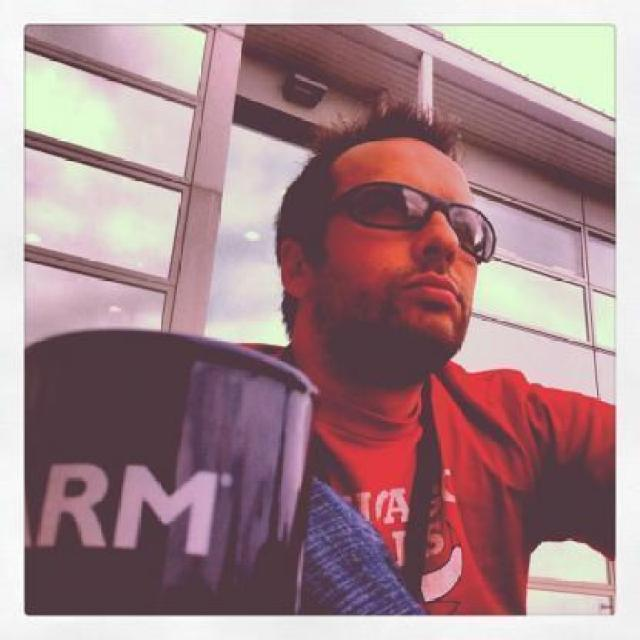face_nomask: (347, 179, 484, 318)
glasses: (315, 184, 503, 265)
head_nohelmet: (298, 108, 464, 181)
